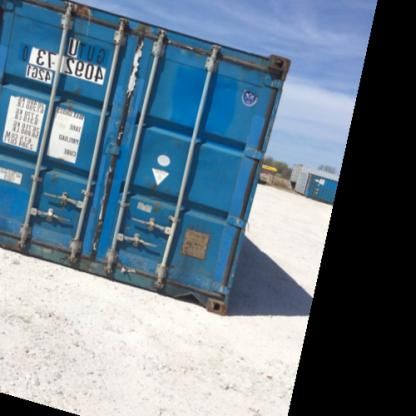Damage: (28, 218, 76, 264), (97, 245, 143, 282), (123, 36, 148, 94), (95, 161, 114, 224), (60, 5, 82, 38), (108, 122, 132, 144)
